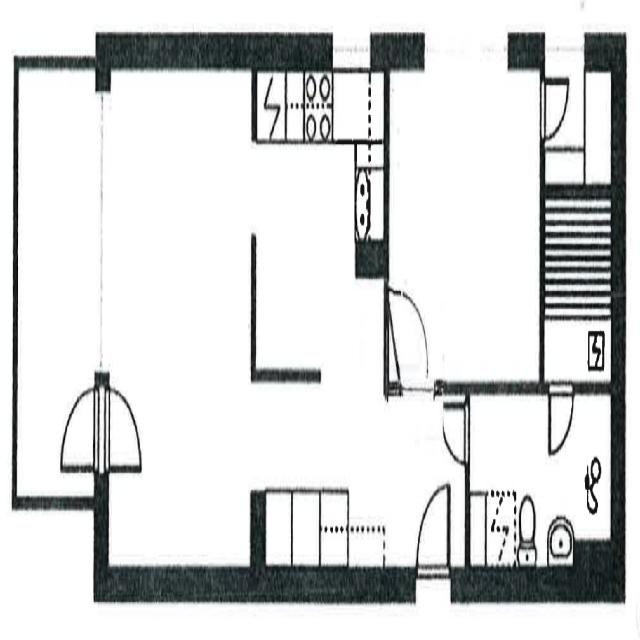door: (416, 481, 450, 601), (62, 387, 110, 471), (96, 387, 143, 471), (400, 297, 433, 394), (548, 381, 572, 455), (441, 406, 470, 466), (540, 80, 569, 138)
